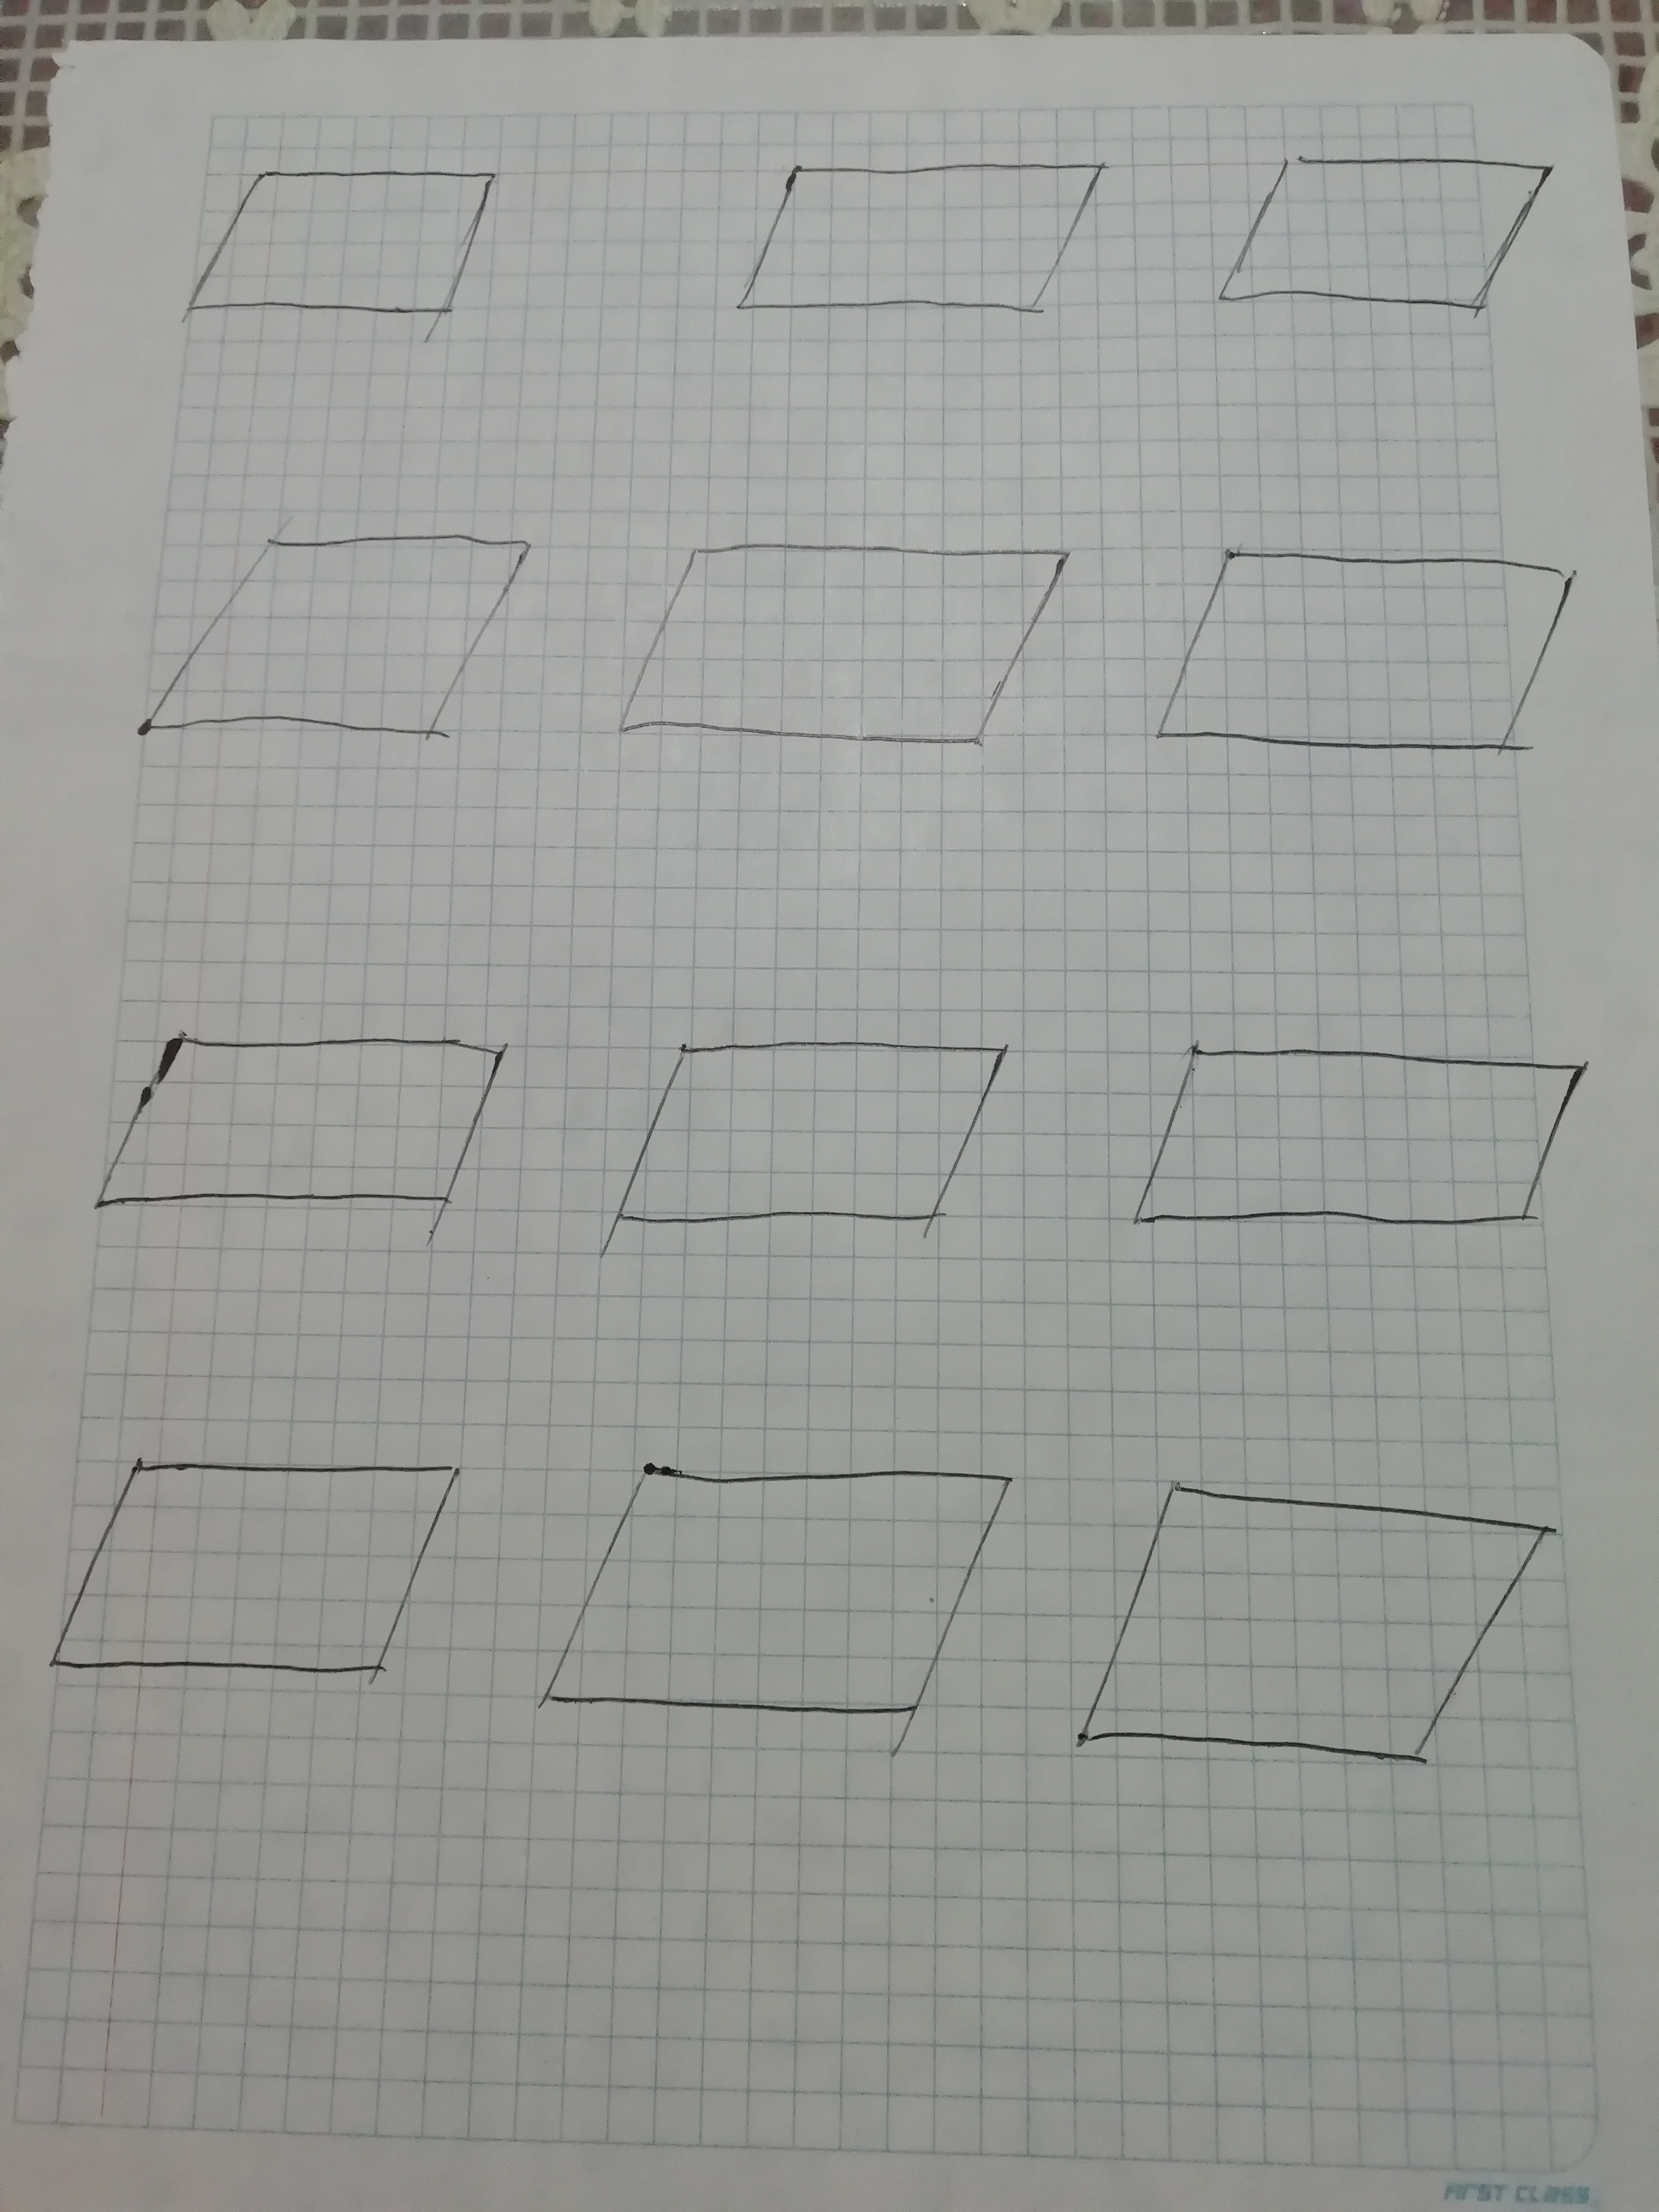scan: (1061, 1439, 1582, 1797), (519, 1435, 1037, 1787), (19, 1428, 491, 1743), (40, 993, 530, 1284), (575, 1010, 1037, 1315), (598, 510, 1096, 784), (77, 503, 561, 773), (1129, 507, 1600, 777), (1112, 1014, 1614, 1261), (146, 131, 554, 369), (687, 131, 1122, 350), (1192, 120, 1582, 340)
